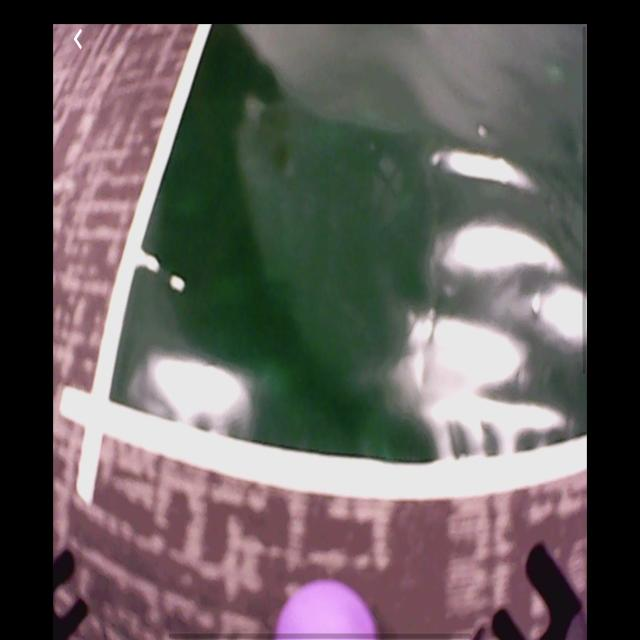ball: (276, 580, 377, 640)
